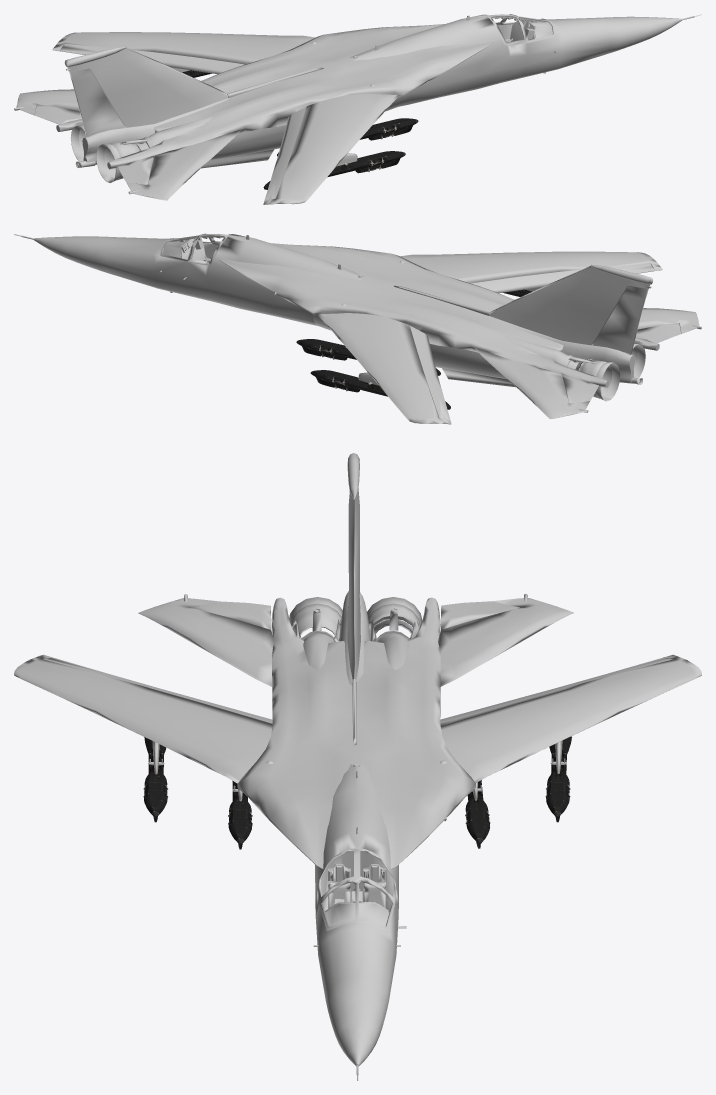
Rendered from F111F_sweep40_US.fbx.
3 renders of one model, top to bottom at view 1: azimuth 30°, elevation 25°; view 2: azimuth 150°, elevation 25°; view 3: azimuth 270°, elevation 25°, orthographic. The views are drawn at different scales.
Parts seen in each view (by area): view 1: Chassis, Chassis.004, Chassis.003; view 2: Chassis, Chassis.002, Chassis.001; view 3: Chassis, Chassis.002, Chassis.004, Chassis.001, Chassis.003.
Part boxes in pixels (<box>): Chassis: <box>14,14,701,204</box>; Chassis.004: <box>263,151,405,189</box>; Chassis.003: <box>277,118,418,156</box>; Chassis: <box>14,233,701,424</box>; Chassis.002: <box>310,370,450,409</box>; Chassis.001: <box>296,339,440,375</box>; Chassis: <box>14,453,701,1080</box>; Chassis.002: <box>545,736,572,822</box>; Chassis.004: <box>143,737,168,822</box>; Chassis.001: <box>465,780,490,848</box>; Chassis.003: <box>228,781,252,849</box>.
Bounding box in the file's own units: 22.36 × 14.02 × 4.54.
